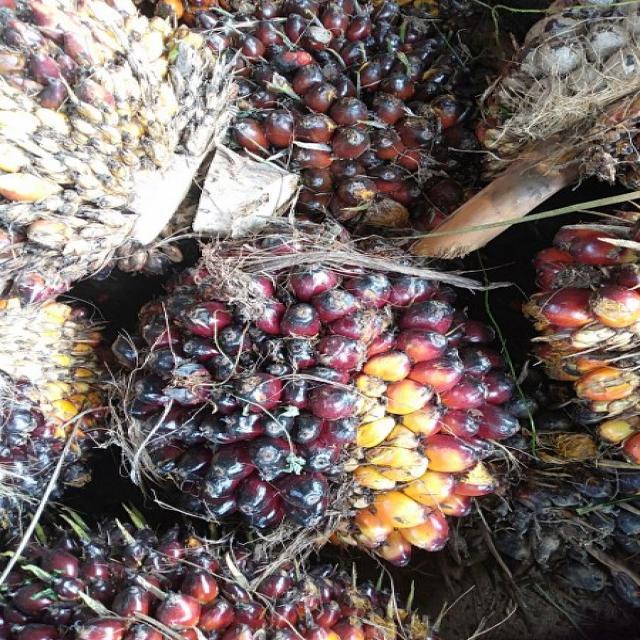fraksi 1: (93, 210, 517, 559)
